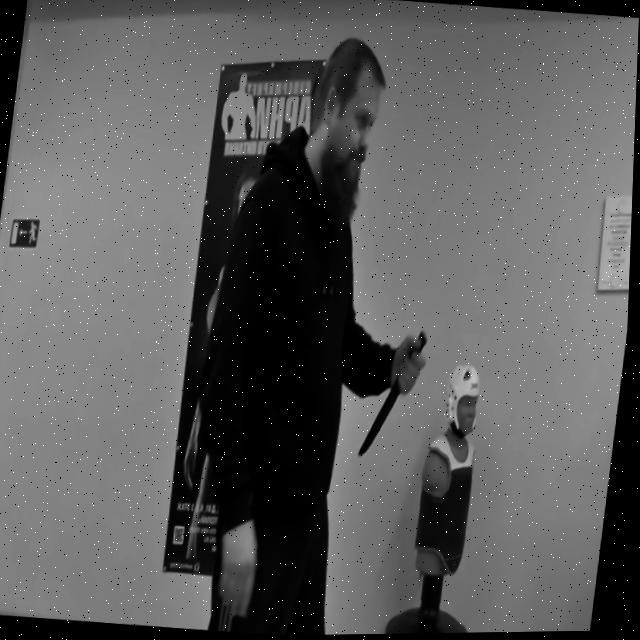knife: (359, 324, 432, 465)
